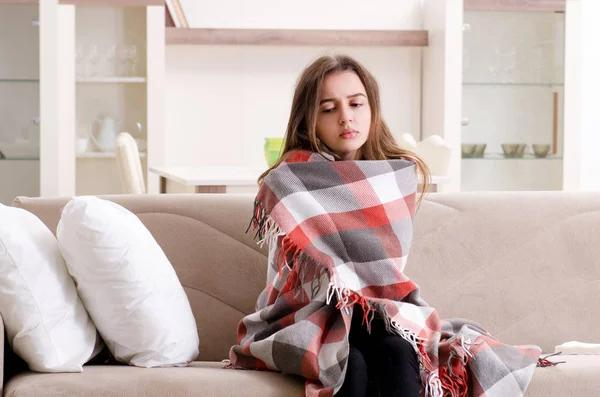blanket: (226, 148, 549, 397)
trousers: (334, 306, 422, 397)
